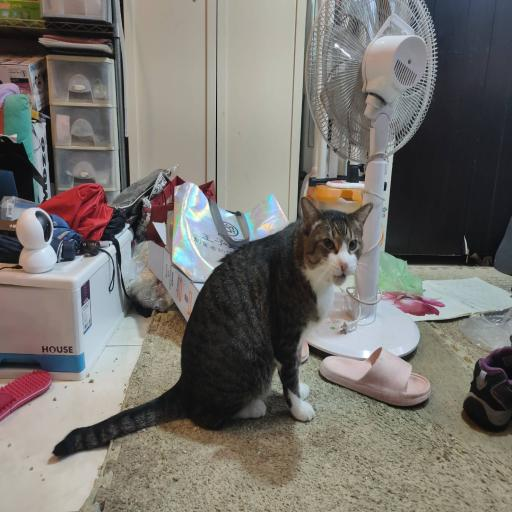cat: (152, 207, 369, 430)
